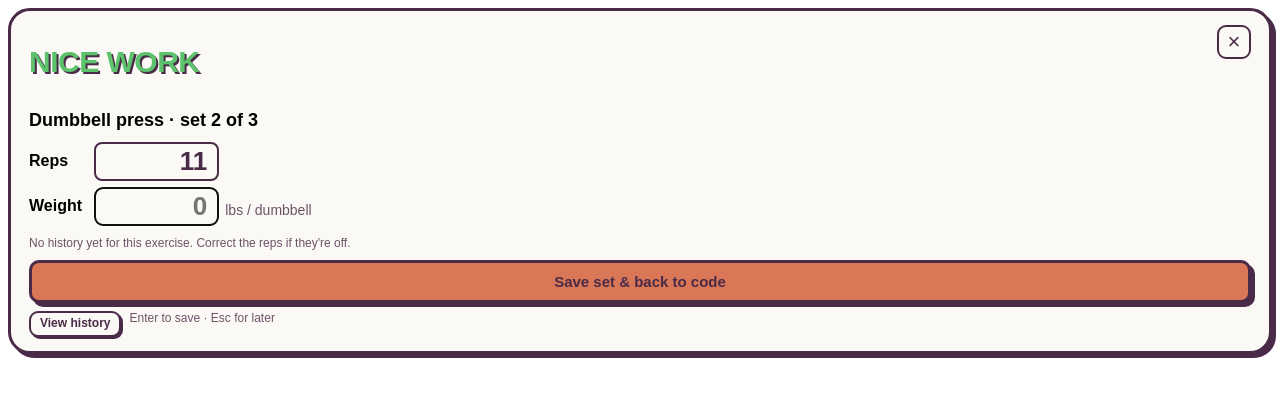
Test: work desktop prompt › P03 rejects a bad weight and keeps the draft
In the field labelled "Weight": (157, 206) [94,187,219,226], type "-3"
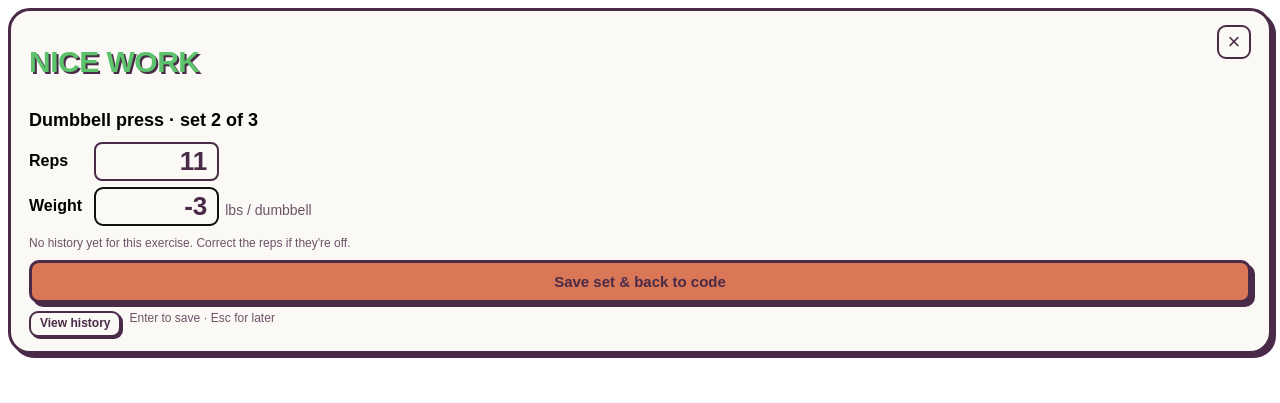
Submit the form labelled "Weight"
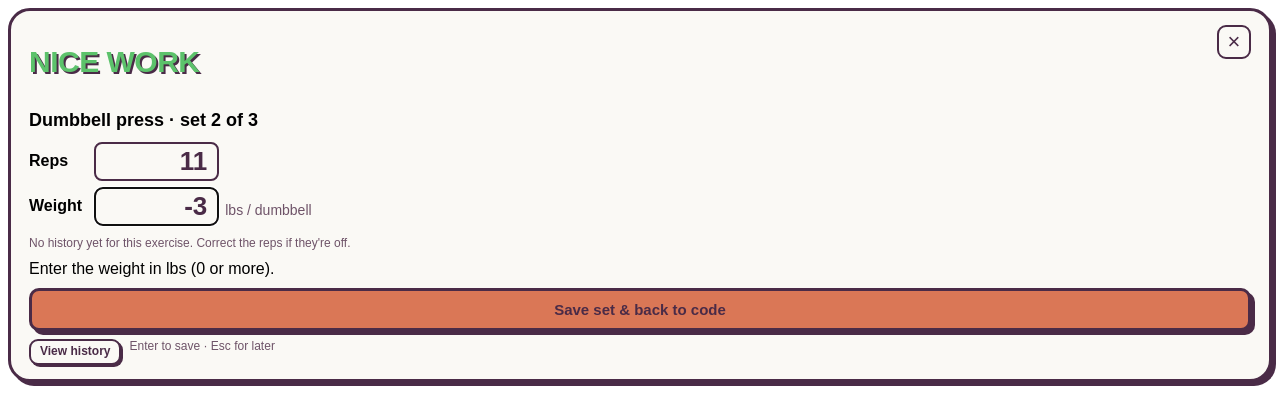
Result: the message shows "0 or more" at [29,260,274,277]
